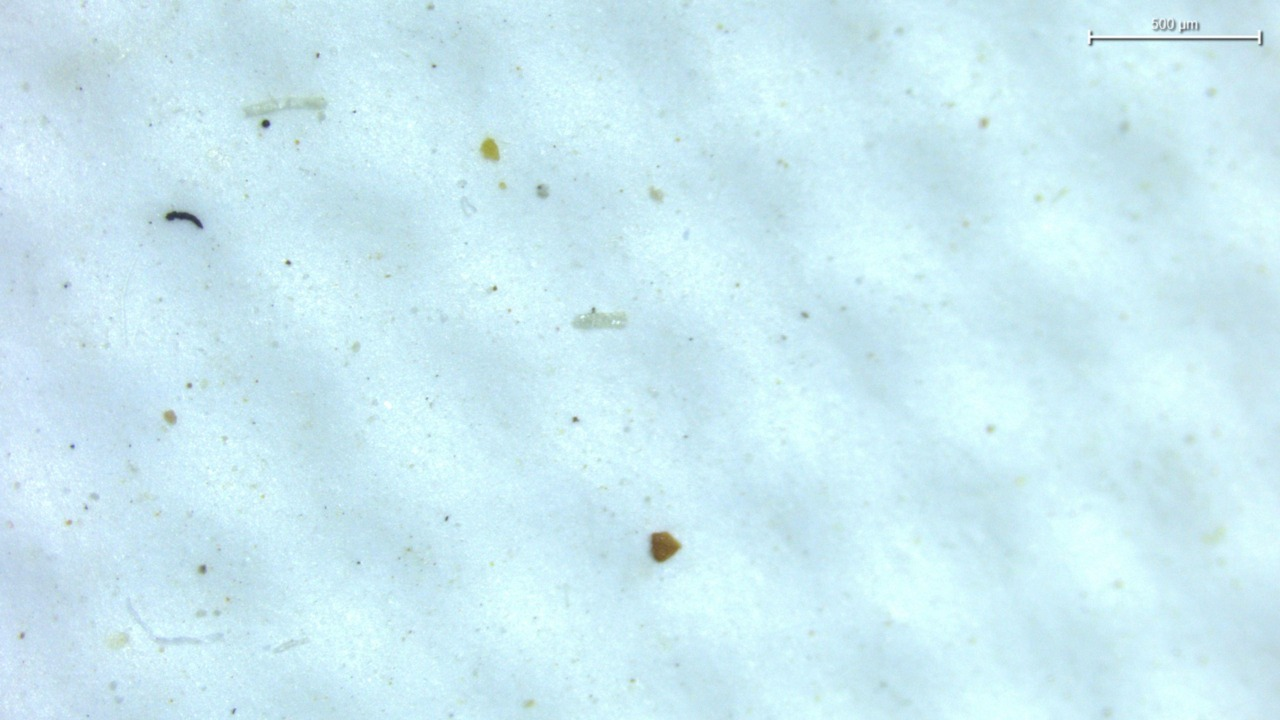microplastic_fragment: (242, 96, 326, 116), (572, 307, 627, 329), (650, 532, 681, 562)
